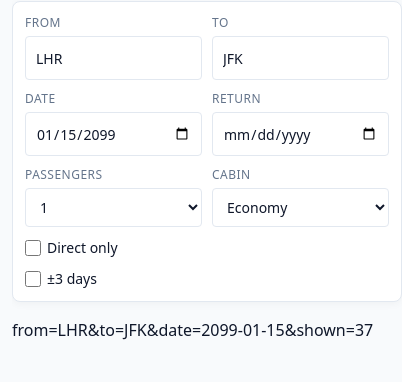
it: SearchFormBar › changing a filter-only field (direct) does NOT reset shown
Click the checkbox labelled "Direct only".
click(33, 248)  # box [25,240,41,256]
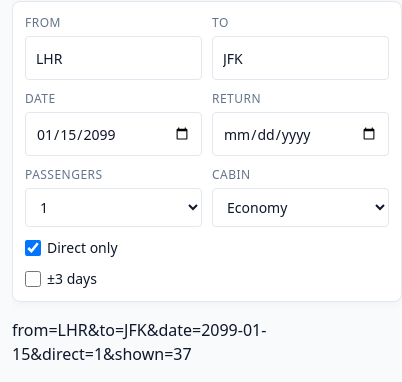
Check: the text with test id "probe" shows "shown=37", box [12,319,266,365]
Check: the text with test id "probe" shows "direct=1", box [12,319,266,365]
